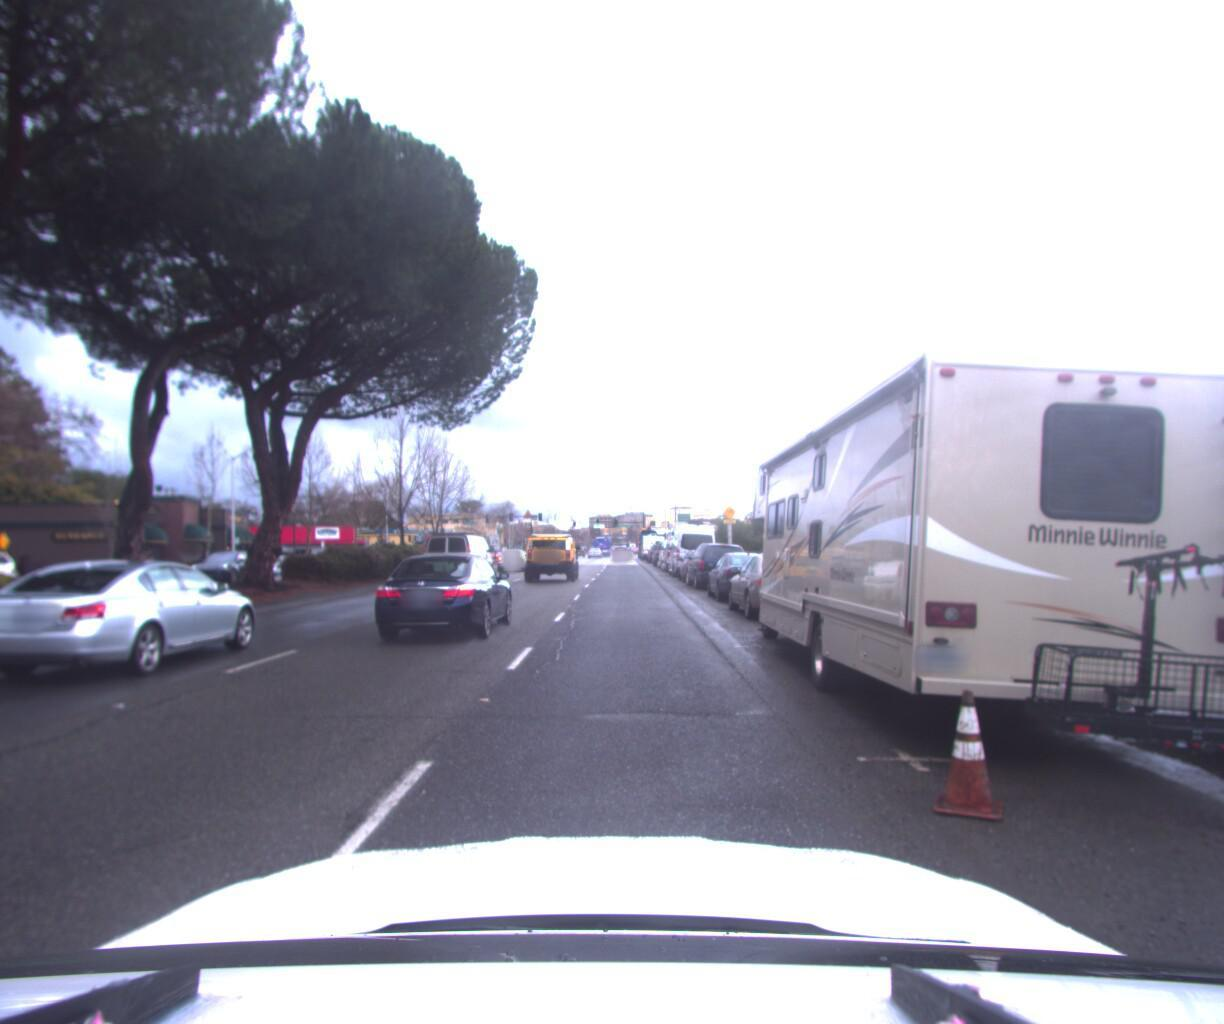car: (0, 555, 272, 708), (370, 553, 521, 653), (717, 542, 840, 626), (416, 528, 497, 589), (701, 544, 783, 604), (680, 534, 751, 588), (522, 528, 582, 584), (182, 550, 266, 588), (676, 543, 727, 583), (659, 532, 702, 570), (0, 554, 22, 599), (491, 544, 527, 571)
other_vehicle: (731, 332, 1224, 793), (665, 514, 718, 575)
